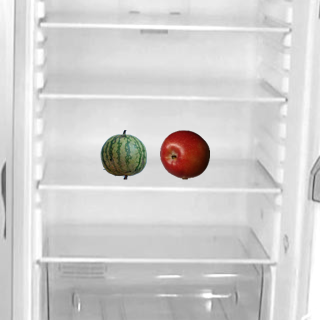Apple Braeburn: (159, 129, 209, 179)
Watermelon: (98, 129, 148, 179)
